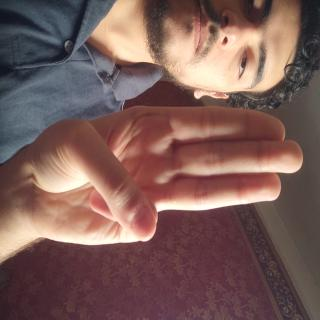THA: (76, 18, 185, 320)
